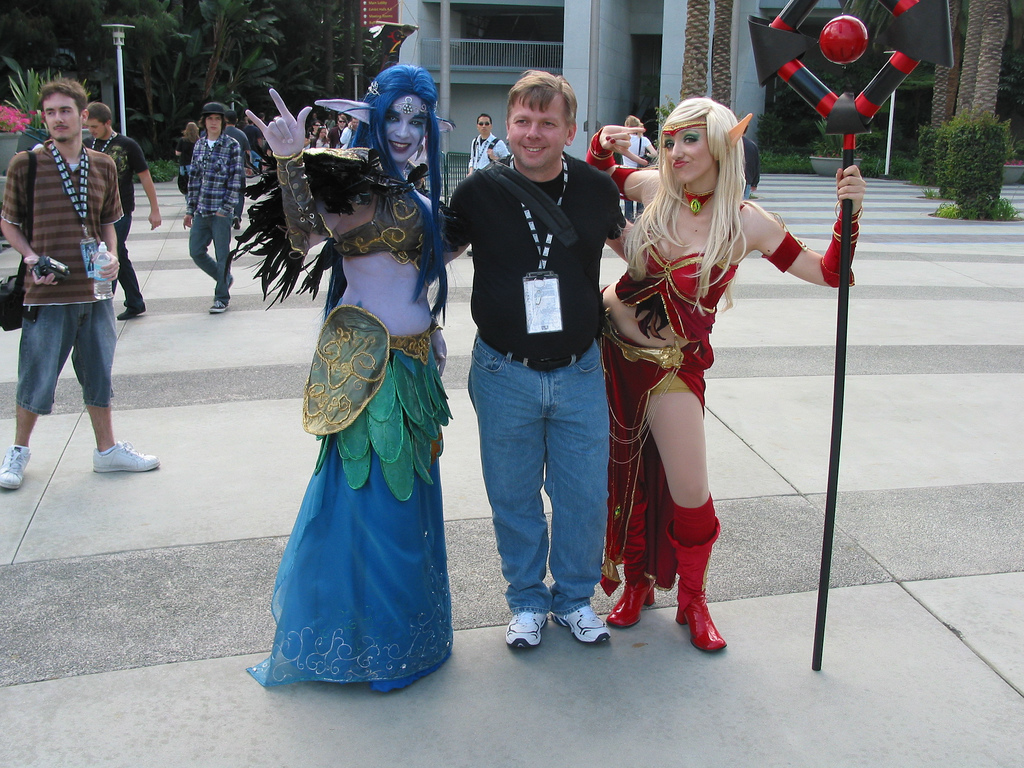Footwear: (659, 500, 728, 659), (612, 575, 660, 626), (95, 439, 160, 472), (503, 607, 552, 649), (561, 602, 606, 641), (0, 444, 33, 491), (121, 300, 147, 315), (213, 292, 226, 313), (226, 269, 234, 287)
